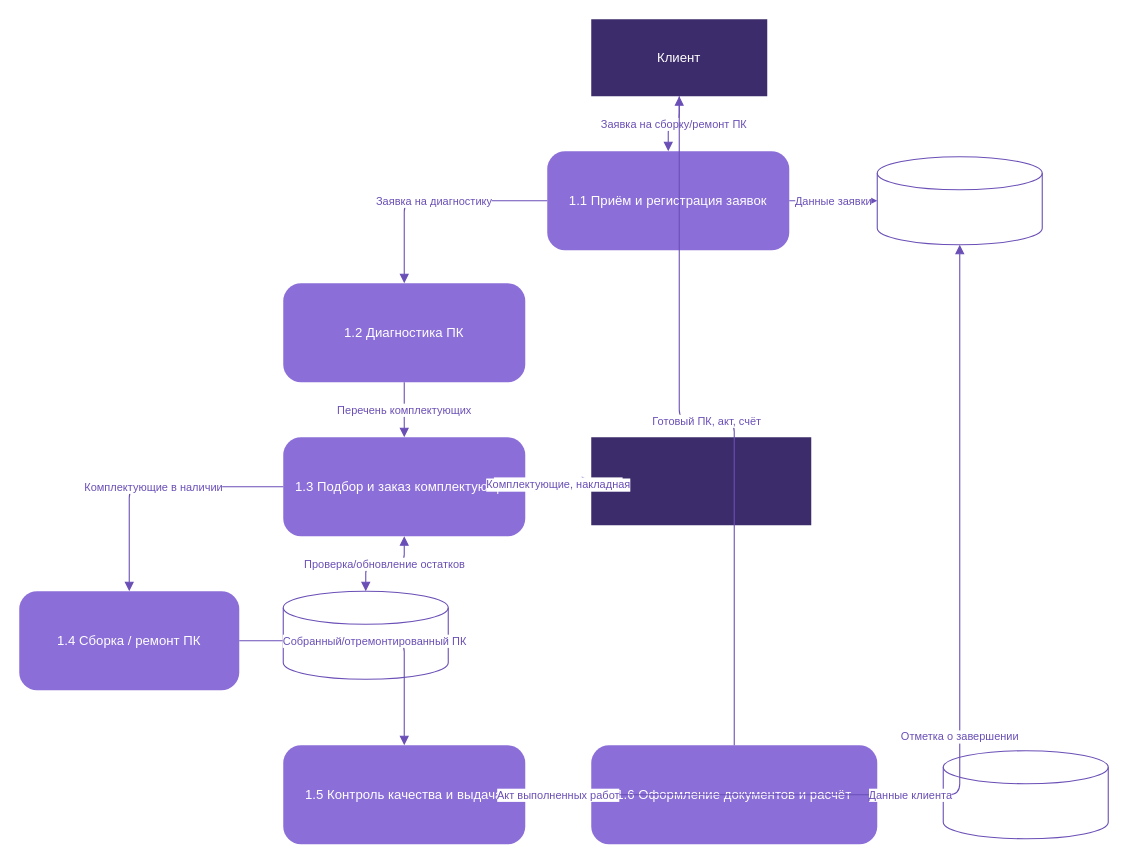
This 1128x862 diagram has some shape labels left out. The shapes that lost their labels are listed below. From the top down, each one's centre as x and y in pixels, then its label:
the point at 959,200: Д1 База заявок
the point at 701,481: Поставщик комплектующих
the point at 365,634: Д2 Склад комплектующих
the point at 1025,794: Д3 База клиентов
